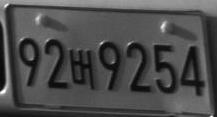2: (43, 38, 69, 89), (125, 41, 151, 92)
4: (179, 44, 205, 96)
5: (153, 43, 178, 94)
9: (97, 40, 122, 90), (18, 37, 41, 86)
버: (68, 49, 95, 90)
